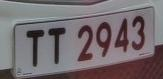2: (74, 22, 97, 66)
3: (130, 12, 148, 54)
4: (113, 14, 131, 59)
9: (94, 17, 114, 62)
T: (21, 25, 48, 70), (44, 23, 69, 68)
